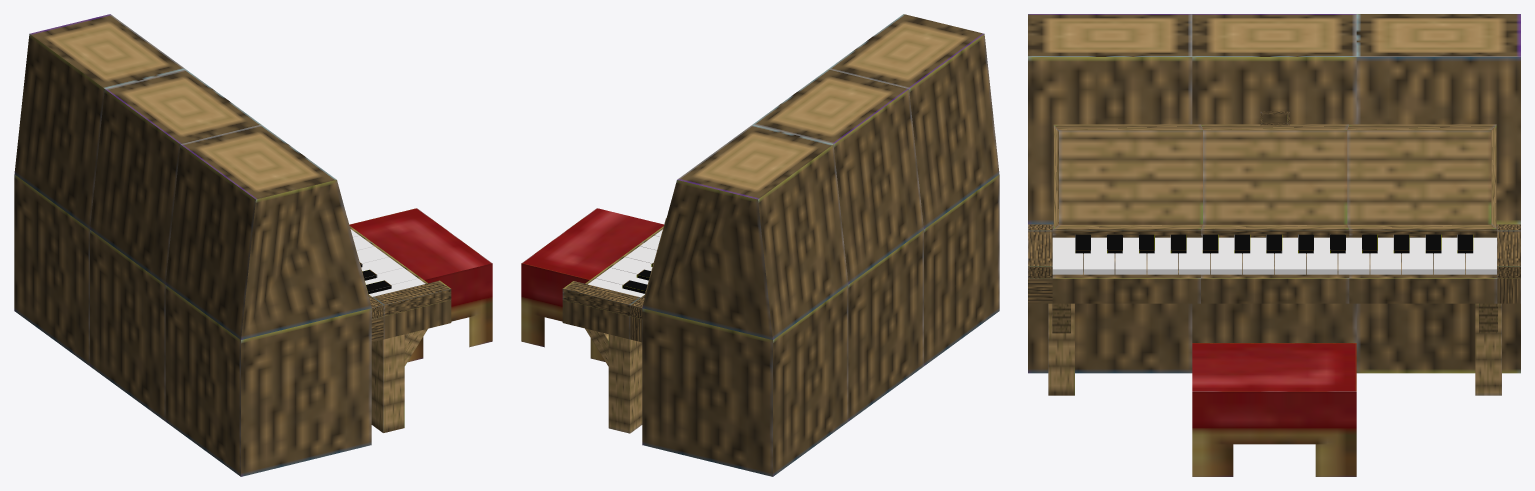
File: Piano.obj
3 views of the same model, side by side, from view 1: azimuth 30°, elevation 25°; view 2: azimuth 150°, elevation 25°; view 3: azimuth 270°, elevation 25° (orthographic). The views are drawn at different scales.
Parts seen in each view (by area): view 1: Cube_Cube.001, Cube.001_Cube.002; view 2: Cube_Cube.001, Cube.001_Cube.002; view 3: Cube_Cube.001, Cube.001_Cube.002.
Boxes of the visible parts, x1=… form: Cube_Cube.001: x1=14, y1=14, x2=451, y2=476; Cube.001_Cube.002: x1=349, y1=208, x2=492, y2=362; Cube_Cube.001: x1=562, y1=14, x2=999, y2=476; Cube.001_Cube.002: x1=521, y1=208, x2=663, y2=361; Cube_Cube.001: x1=1028, y1=14, x2=1520, y2=395; Cube.001_Cube.002: x1=1192, y1=343, x2=1356, y2=476.
Size of the model in its own units: 4.06 by 3.25 by 4.87.
1 material, 1 textured.
